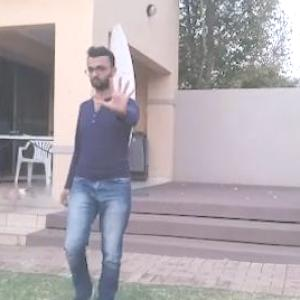follow_hand: (94, 70, 140, 120)
